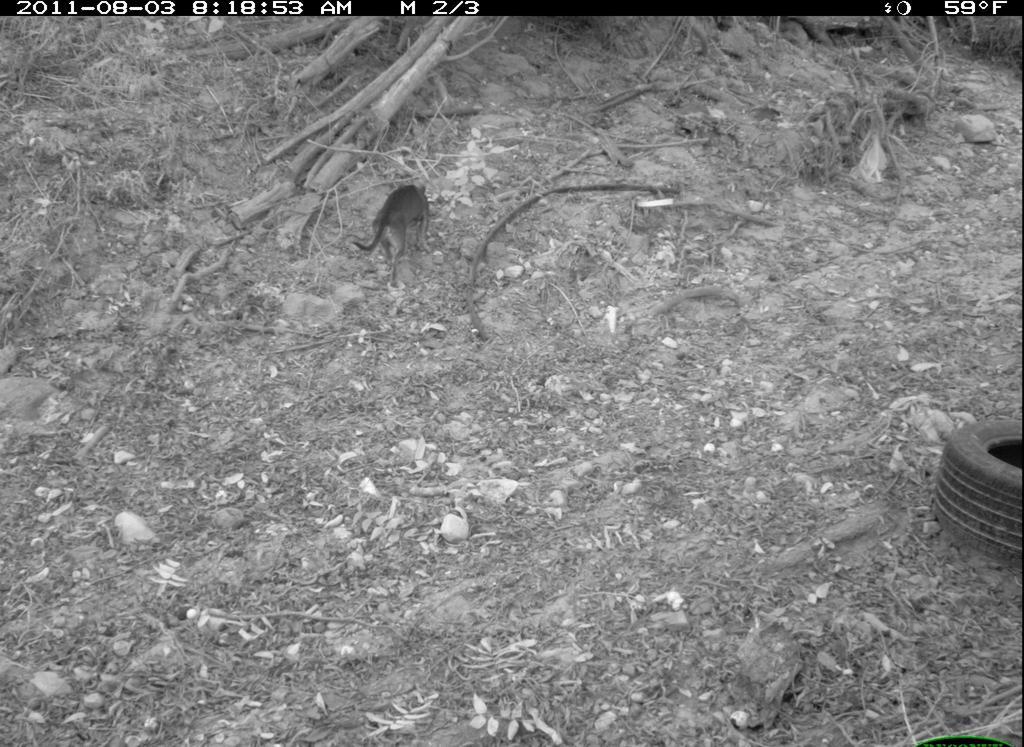dog: (360, 158, 442, 296)
